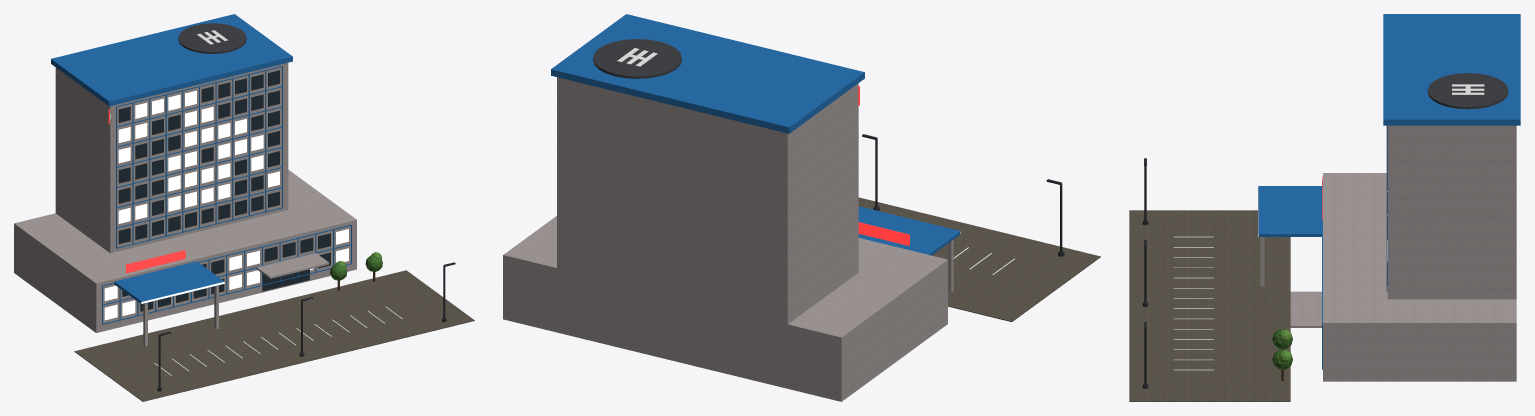
File: OT_Hospital_A.glb
3 renders of one model, left to right at view 1: azimuth 30°, elevation 25°; view 2: azimuth 150°, elevation 25°; view 3: azimuth 270°, elevation 25°, orthographic. The views are drawn at different scales.
Parts seen in each view (by area): view 1: OT_Hospital_A_Stucco, OT_Hospital_A_Pavement, OT_Hospital_A_HospBlue__1f6db0, OT_Hospital_A_Glass__22303a, OT_Hospital_A_InteriorWarm__ffdca8, OT_Hospital_A_Helipad__3a3d42, OT_Hospital_A_GlowRed__ff2a2a, OT_Hospital_A_PoleDark__2a2c30, OT_Hospital_A_Leaf__3f6e2c; view 2: OT_Hospital_A_Stucco, OT_Hospital_A_HospBlue__1f6db0, OT_Hospital_A_Pavement, OT_Hospital_A_Helipad__3a3d42, OT_Hospital_A_GlowRed__ff2a2a, OT_Hospital_A_PoleDark__2a2c30; view 3: OT_Hospital_A_Stucco, OT_Hospital_A_Pavement, OT_Hospital_A_HospBlue__1f6db0, OT_Hospital_A_Helipad__3a3d42, OT_Hospital_A_PaintWhite__f0f0ee.001, OT_Hospital_A_PoleDark__2a2c30, OT_Hospital_A_Leaf__3f6e2c.
Boxes of the visible parts, box(x1,y1,x2,y2) form: OT_Hospital_A_Stucco: box(14, 63, 356, 346); OT_Hospital_A_Pavement: box(74, 270, 474, 401); OT_Hospital_A_HospBlue__1f6db0: box(51, 14, 351, 324); OT_Hospital_A_Glass__22303a: box(118, 70, 330, 311); OT_Hospital_A_InteriorWarm__ffdca8: box(104, 90, 348, 320); OT_Hospital_A_Helipad__3a3d42: box(178, 23, 246, 53); OT_Hospital_A_GlowRed__ff2a2a: box(108, 109, 185, 273); OT_Hospital_A_PoleDark__2a2c30: box(157, 262, 455, 391); OT_Hospital_A_Leaf__3f6e2c: box(330, 255, 382, 280); OT_Hospital_A_Stucco: box(503, 77, 953, 401); OT_Hospital_A_HospBlue__1f6db0: box(551, 14, 960, 255); OT_Hospital_A_Pavement: box(858, 197, 1100, 321); OT_Hospital_A_Helipad__3a3d42: box(593, 39, 681, 78); OT_Hospital_A_GlowRed__ff2a2a: box(858, 86, 909, 245); OT_Hospital_A_PoleDark__2a2c30: box(862, 134, 1064, 256); OT_Hospital_A_Stucco: box(1260, 125, 1516, 381); OT_Hospital_A_Pavement: box(1129, 210, 1290, 401); OT_Hospital_A_HospBlue__1f6db0: box(1258, 14, 1520, 369); OT_Hospital_A_Helipad__3a3d42: box(1427, 73, 1508, 109); OT_Hospital_A_PaintWhite__f0f0ee.001: box(1173, 236, 1213, 370); OT_Hospital_A_PoleDark__2a2c30: box(1142, 158, 1148, 388); OT_Hospital_A_Leaf__3f6e2c: box(1272, 329, 1292, 369).
Size of the model in its own units: 56 by 33.42 by 48.5.
16 materials, 2 textured.
